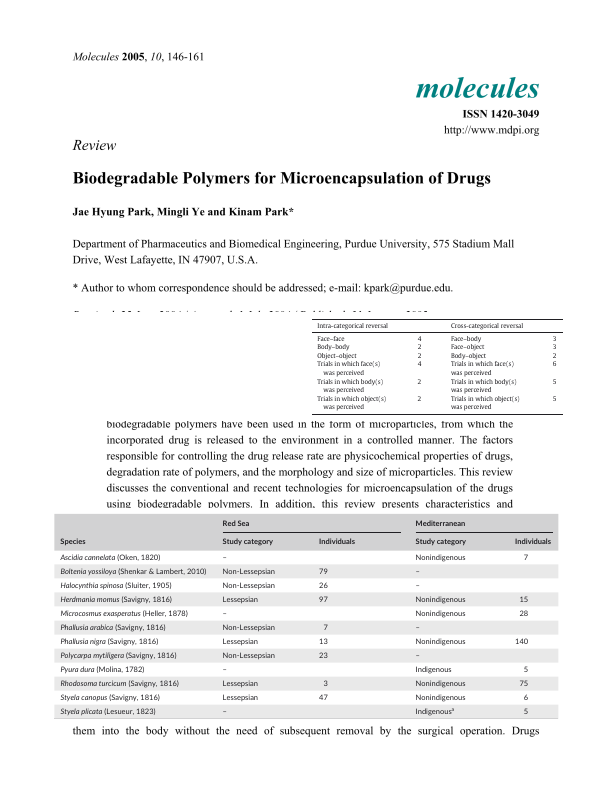borderless: (52, 513, 559, 720), (311, 317, 563, 414)
cell: (59, 566, 206, 578), (59, 608, 188, 620), (59, 678, 179, 690), (59, 650, 177, 662), (59, 580, 172, 592), (59, 594, 172, 606), (59, 622, 166, 634), (59, 552, 160, 564), (59, 692, 160, 704), (316, 395, 387, 412), (450, 395, 521, 412), (59, 636, 158, 648), (59, 706, 156, 718), (316, 377, 384, 394), (450, 377, 518, 394), (316, 360, 381, 377), (450, 360, 515, 377), (59, 664, 144, 676), (414, 517, 465, 530), (221, 566, 275, 578), (221, 580, 275, 592), (221, 622, 275, 634), (221, 650, 275, 662), (221, 536, 273, 548), (414, 536, 466, 548), (414, 552, 466, 564), (414, 594, 466, 606), (414, 608, 466, 620), (414, 636, 466, 648), (414, 678, 466, 690), (414, 692, 466, 704), (450, 322, 524, 330), (316, 322, 389, 330), (414, 705, 454, 718), (414, 664, 452, 676), (221, 594, 258, 606), (221, 636, 258, 648), (221, 678, 258, 690), (221, 692, 258, 704), (221, 517, 250, 530), (316, 352, 358, 360), (59, 536, 86, 548), (316, 343, 351, 352), (450, 343, 485, 352), (317, 538, 355, 546), (513, 538, 551, 546), (450, 352, 487, 360), (450, 335, 482, 343), (316, 335, 346, 343), (317, 566, 328, 578), (317, 580, 328, 592), (317, 594, 328, 606), (513, 639, 528, 646), (317, 639, 328, 646), (317, 653, 328, 660), (317, 695, 328, 702), (522, 692, 528, 704), (518, 597, 528, 604), (518, 611, 528, 618), (518, 681, 528, 688), (552, 343, 558, 352), (552, 360, 558, 369), (552, 377, 558, 386), (552, 335, 558, 343), (552, 352, 558, 360), (552, 395, 558, 403), (417, 343, 422, 352), (417, 360, 422, 369), (417, 377, 422, 386), (221, 555, 227, 562), (522, 555, 528, 562), (414, 569, 420, 576), (414, 583, 420, 590), (221, 611, 227, 618), (322, 625, 328, 632), (414, 625, 420, 632), (414, 653, 420, 660), (221, 667, 227, 674), (522, 667, 528, 674), (322, 681, 328, 688), (221, 709, 227, 716), (522, 709, 528, 716), (417, 335, 422, 343), (417, 352, 422, 360), (417, 395, 422, 403)
